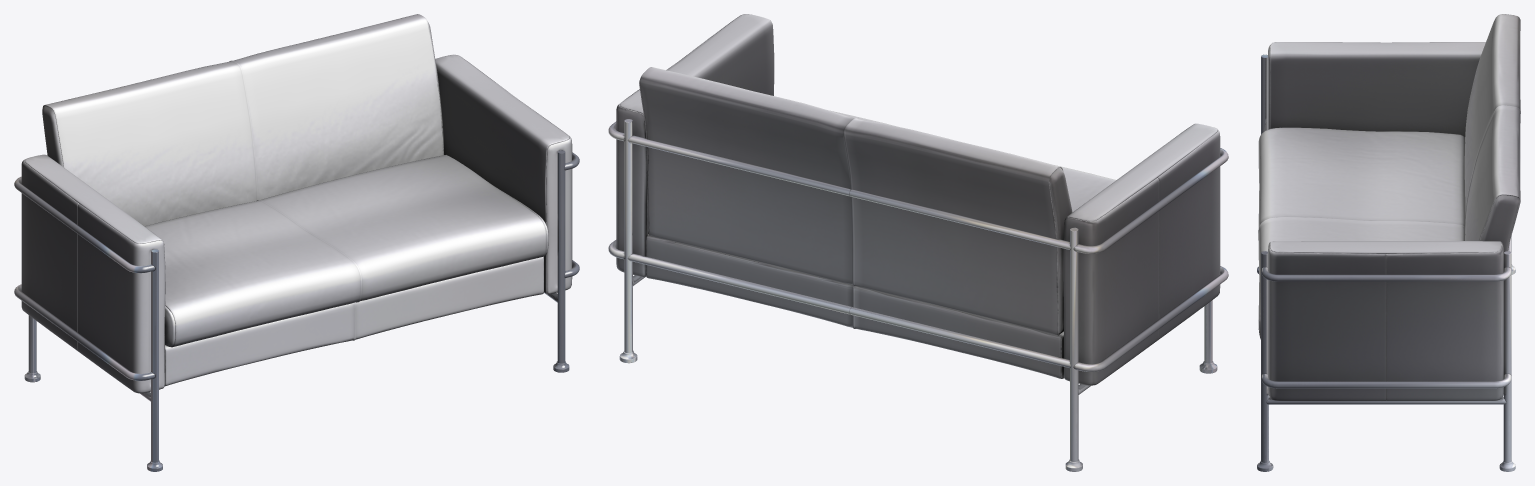
File: solana_ii.glb
3 views of the same model, side by side, from view 1: azimuth 30°, elevation 25°; view 2: azimuth 150°, elevation 25°; view 3: azimuth 270°, elevation 25° (orthographic). The views are drawn at different scales.
Visible parts, largest first — view 1: solana_ii-white; view 2: solana_ii-white; view 3: solana_ii-white.
Boxes of the visible parts, left/top/right/bottom form: solana_ii-white: left=14, top=14, right=579, bottom=471; solana_ii-white: left=608, top=14, right=1228, bottom=471; solana_ii-white: left=1257, top=14, right=1520, bottom=471.
Bounding box in the file's own units: 1.34 × 0.7596 × 0.6824.
Materials: 1 (1 with a texture image).
